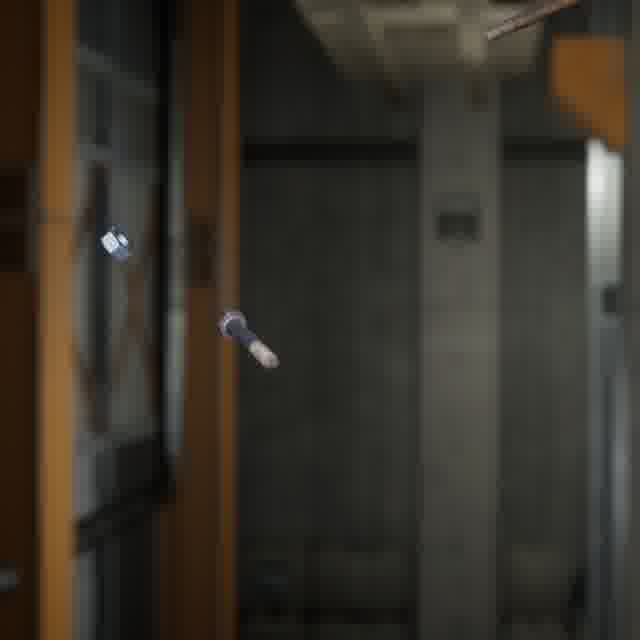bolt: (480, 0, 606, 46), (210, 304, 283, 374)
nut: (96, 222, 137, 266)
